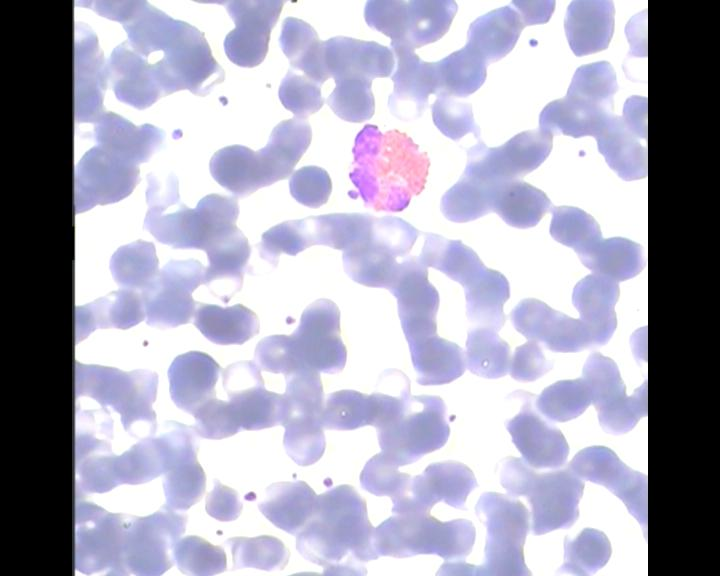eosi: (337, 117, 438, 217)
